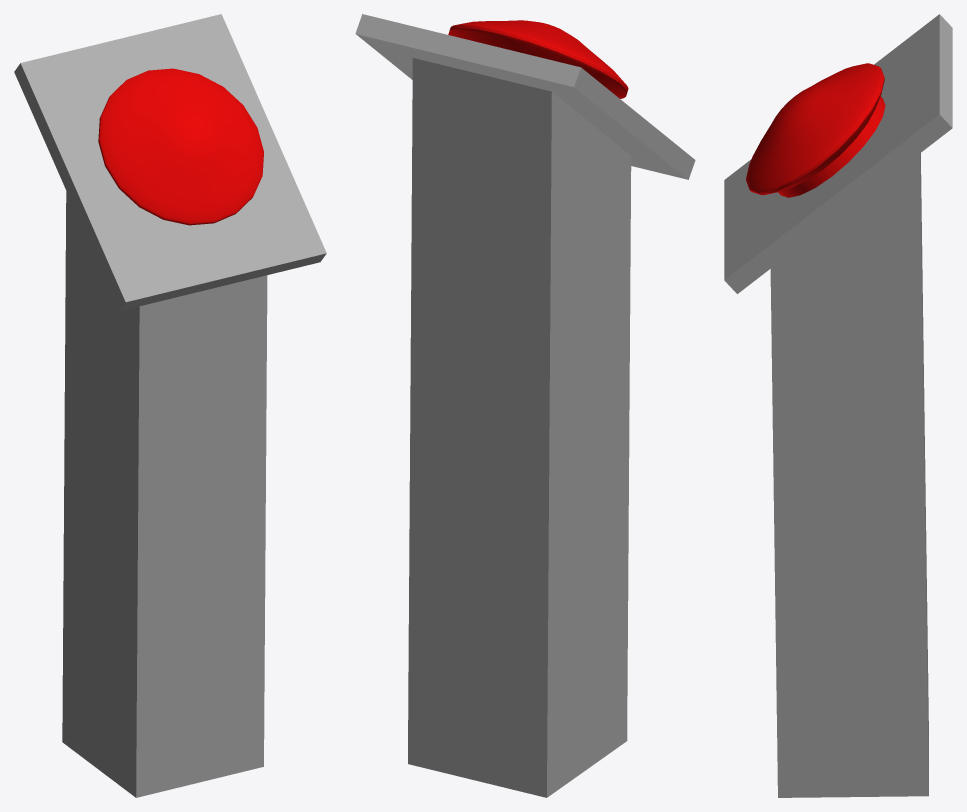
File: StartButton.fbx
The picture shows the model from 3 angles, left to right: view 1: azimuth 30°, elevation 25°; view 2: azimuth 150°, elevation 25°; view 3: azimuth 270°, elevation 25°; orthographic projection. The views are drawn at different scales.
Visible parts, largest first — view 1: pCube2; view 2: pCube2; view 3: pCube2.
Boxes of the visible parts, bbox=[...] form: pCube2: bbox=[14, 14, 326, 797]; pCube2: bbox=[355, 14, 695, 797]; pCube2: bbox=[724, 14, 952, 797].
Size of the model in its own units: 23.6 by 76.93 by 22.69.
